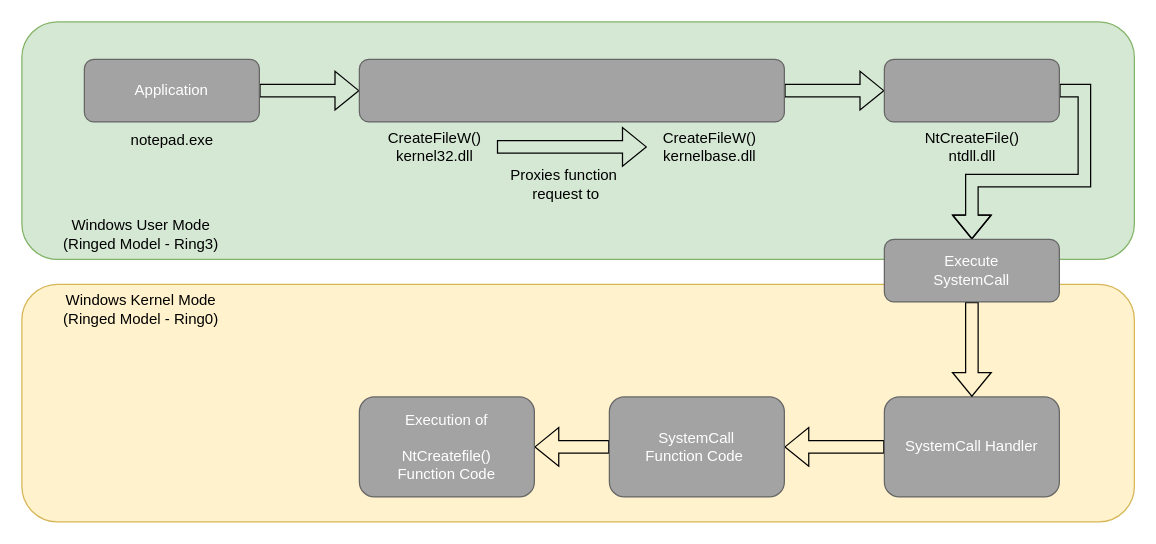
The diagram is 1156 pixels wide and 544 high, and some of its shapes have lost their labels. The box of each missing label's shape, as (x1, y1, x2, y2) in pixels:
Native API: (883, 58, 1059, 122)
Windows API: (358, 58, 784, 122)
